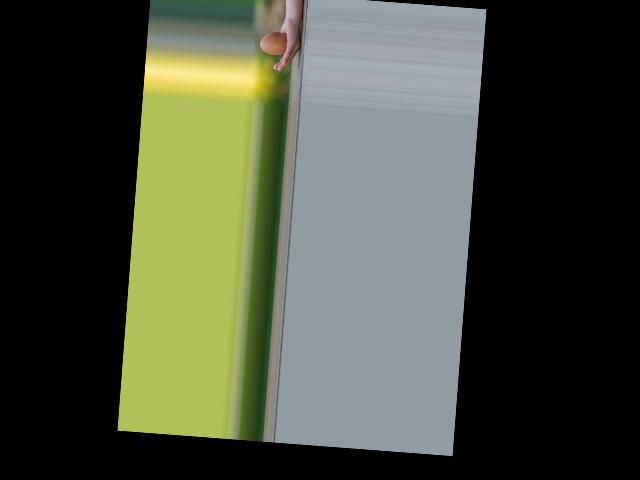egg: (259, 30, 287, 55)
